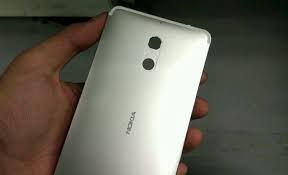nokia: (38, 5, 213, 174)
